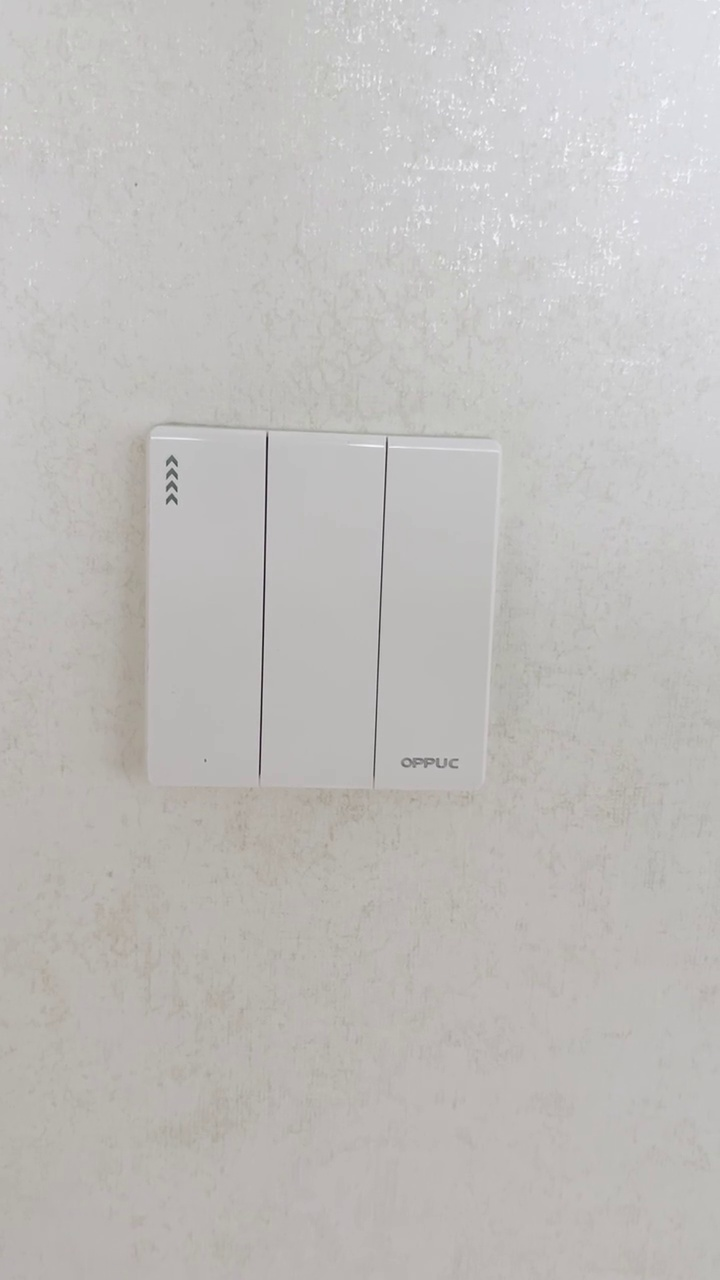button1: (265, 438, 379, 788), (150, 435, 262, 786), (382, 441, 492, 787)
